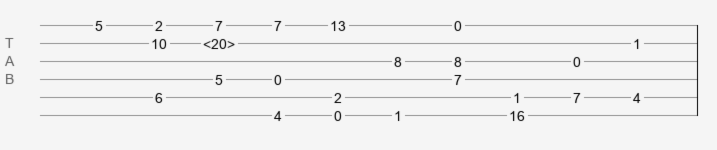0: (274, 72, 282, 82), (334, 108, 342, 118), (454, 18, 462, 28), (573, 54, 581, 64)
1: (394, 108, 402, 118), (513, 90, 521, 100), (633, 36, 641, 46)
10: (151, 36, 167, 46)
13: (330, 18, 346, 28)
16: (509, 108, 525, 118)
2: (155, 18, 163, 28), (334, 90, 342, 100)
4: (274, 108, 282, 118), (633, 90, 641, 100)
5: (95, 18, 103, 28), (215, 72, 223, 82)
6: (155, 90, 163, 100)
7: (215, 18, 223, 28), (274, 18, 282, 28), (454, 72, 462, 82), (573, 90, 581, 100)
8: (394, 54, 402, 64), (454, 54, 462, 64)
harmonic: (203, 36, 235, 46)
